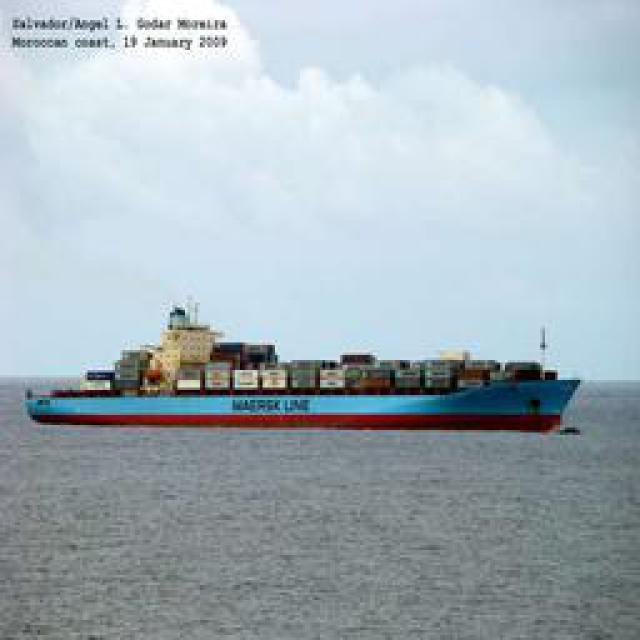Ship: (34, 314, 579, 434)
